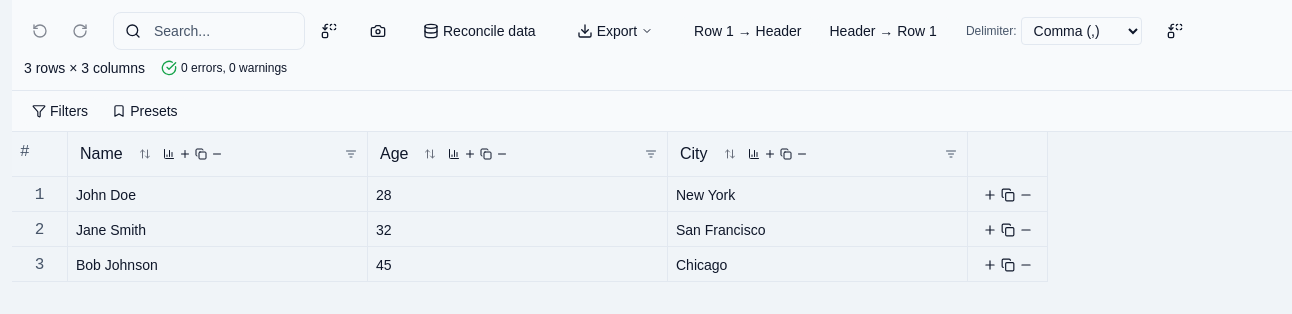
CSV Copy Down (Fill Down) context menu › shows singular row label when one row is below
Right-click the text "Jane Smith" at (111, 230), box [76,222,146,238]
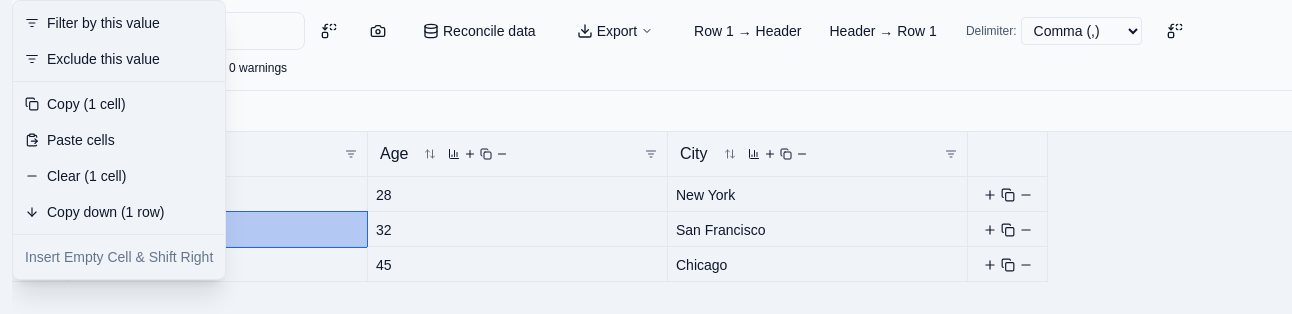
Result: the button with test id "fill-down-button" reads "Copy down (1 row)" at [13,194,225,230]
Result: the button with test id "fill-down-button" is enabled at [13,194,225,230]
